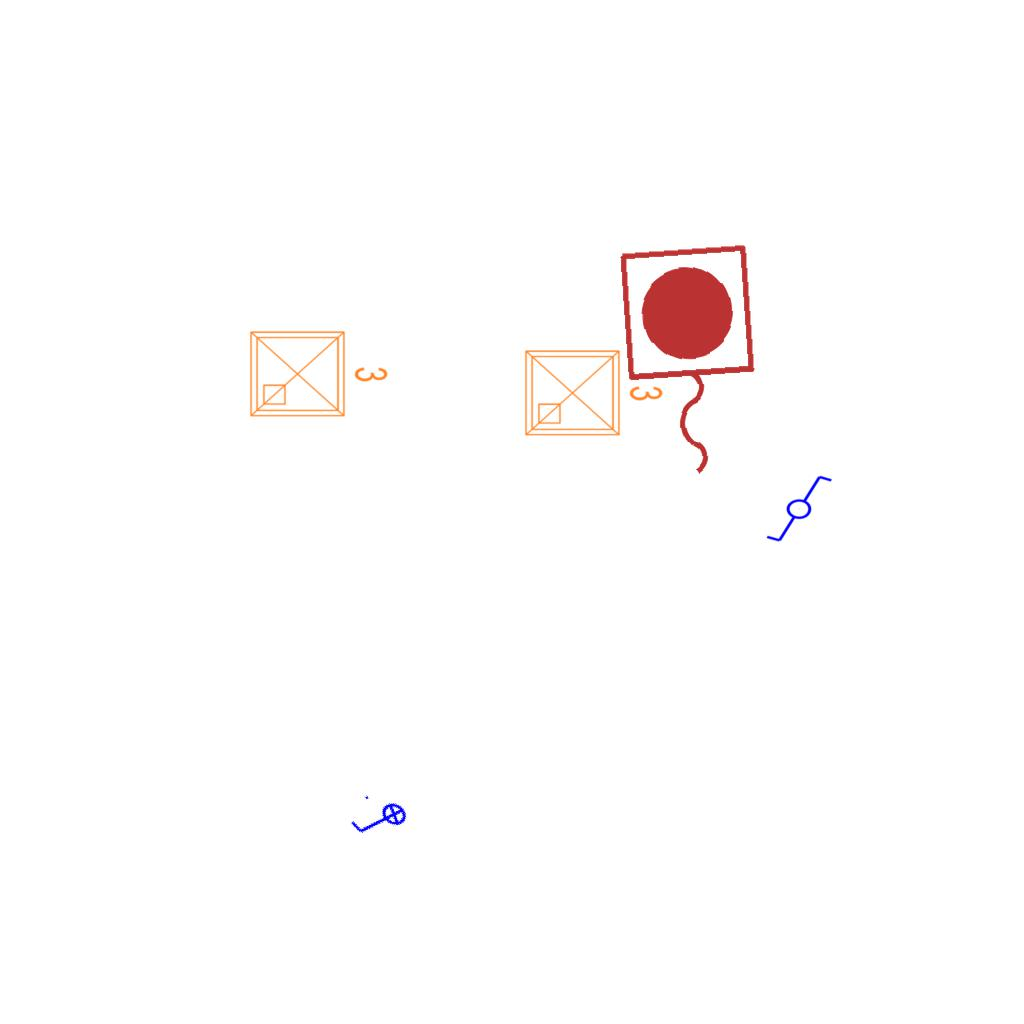Ausschalter_beleuchtet: (343, 786, 417, 856)
Einbaudownlights_LED_Konferenzraeume: (518, 339, 668, 443), (243, 320, 393, 424)
Wechselschalter: (756, 472, 834, 544)
Zugtaster: (608, 236, 770, 490)
